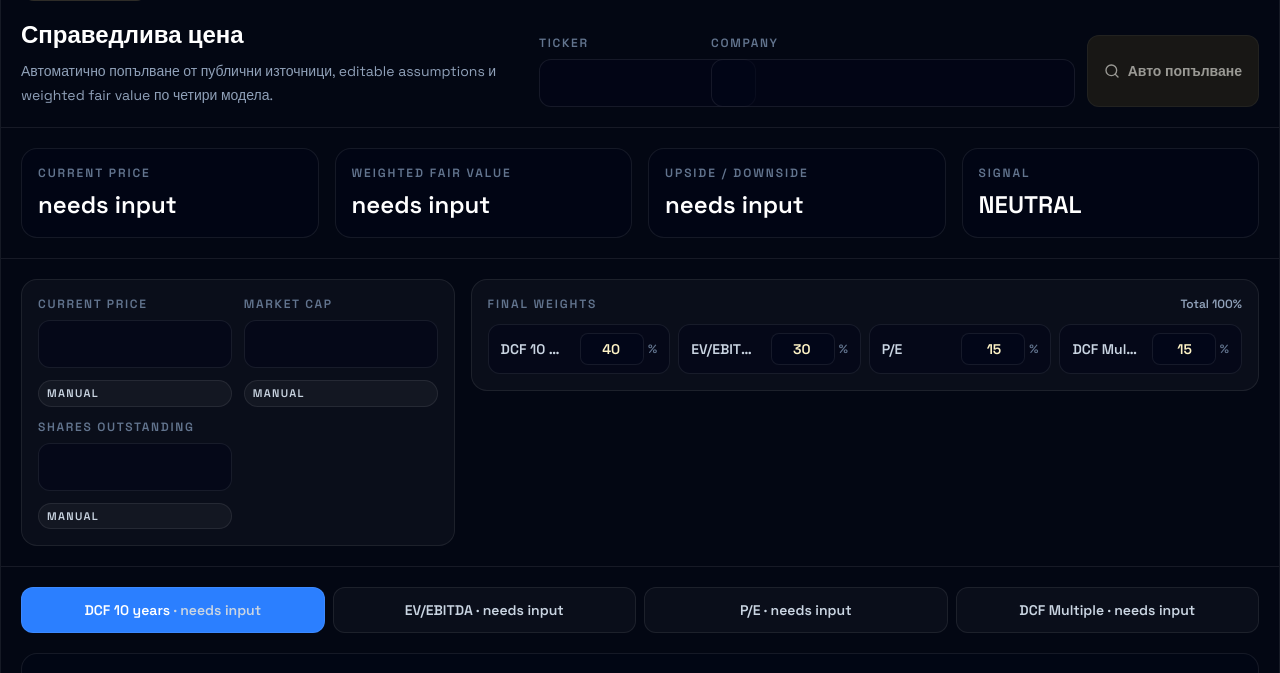
StockValuationPanel › formats noisy scenario input decimals in P/E and DCF Multiple
Type "GOOG" into the field labelled "Ticker".
click(648, 83); type("GOOG")  # box [539,59,756,107]
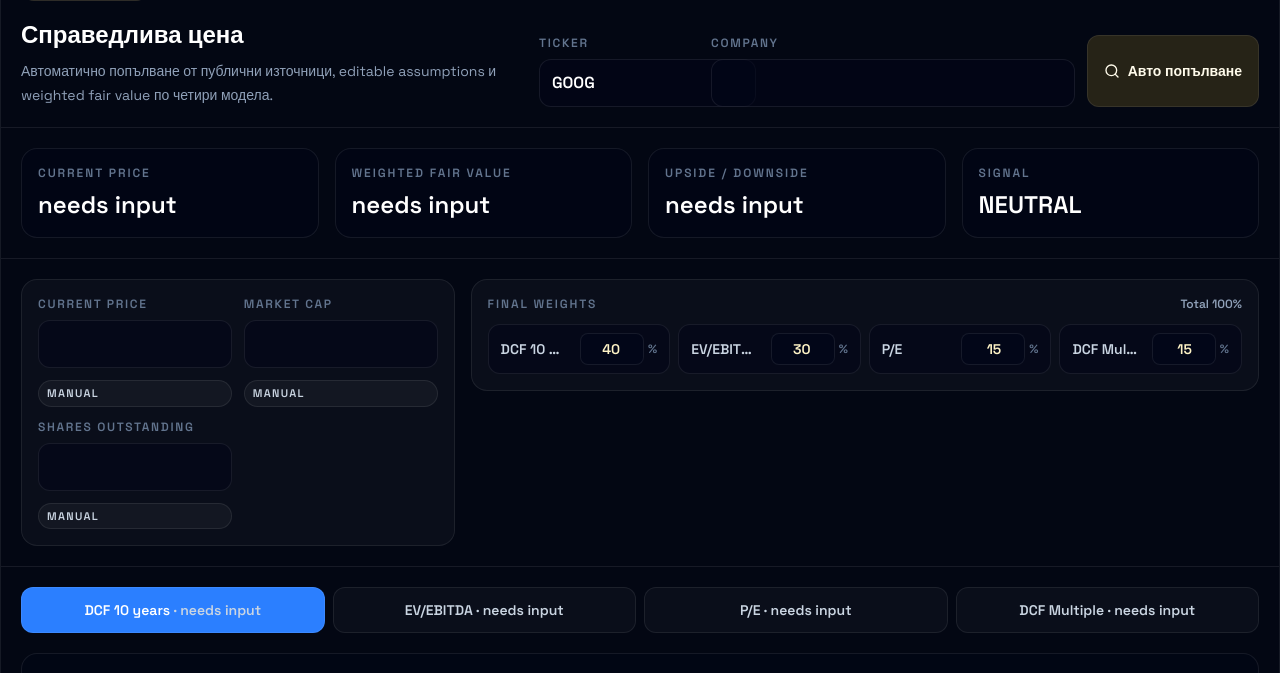
Click the button "Авто попълване".
click(1173, 71)  # box [1087,35,1259,107]
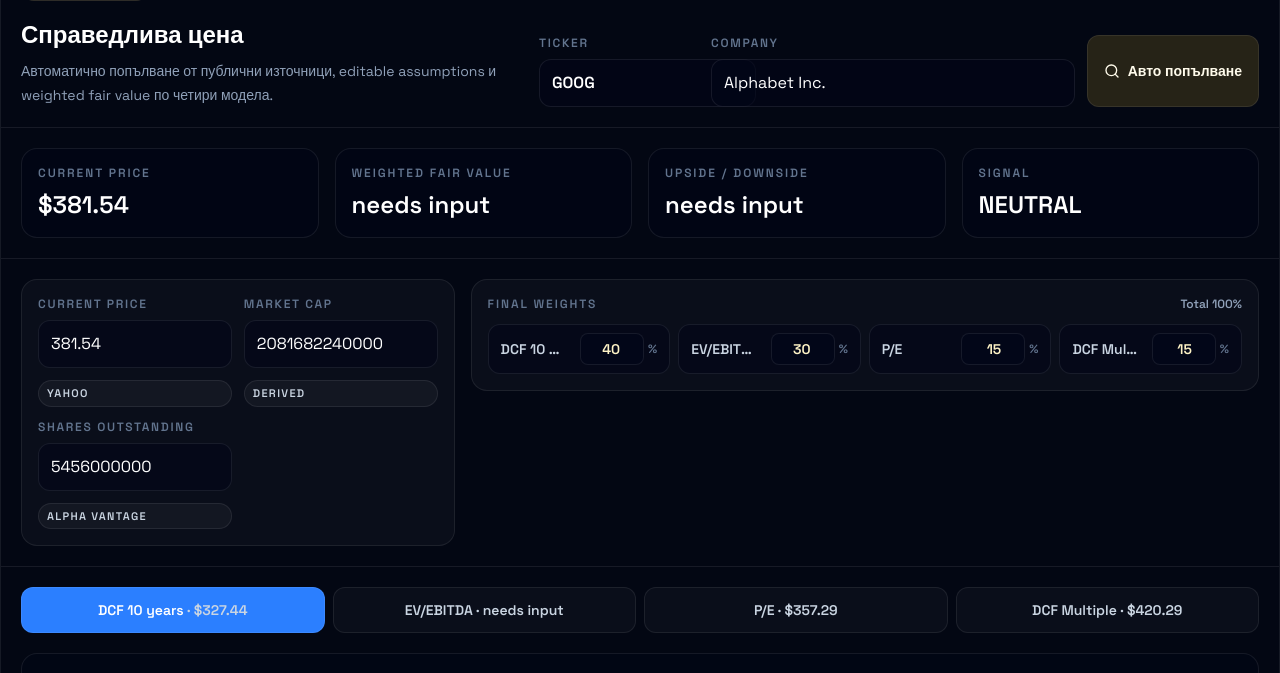
Click the button "P/E · $357.29".
click(796, 610)  # box [644,587,948,633]
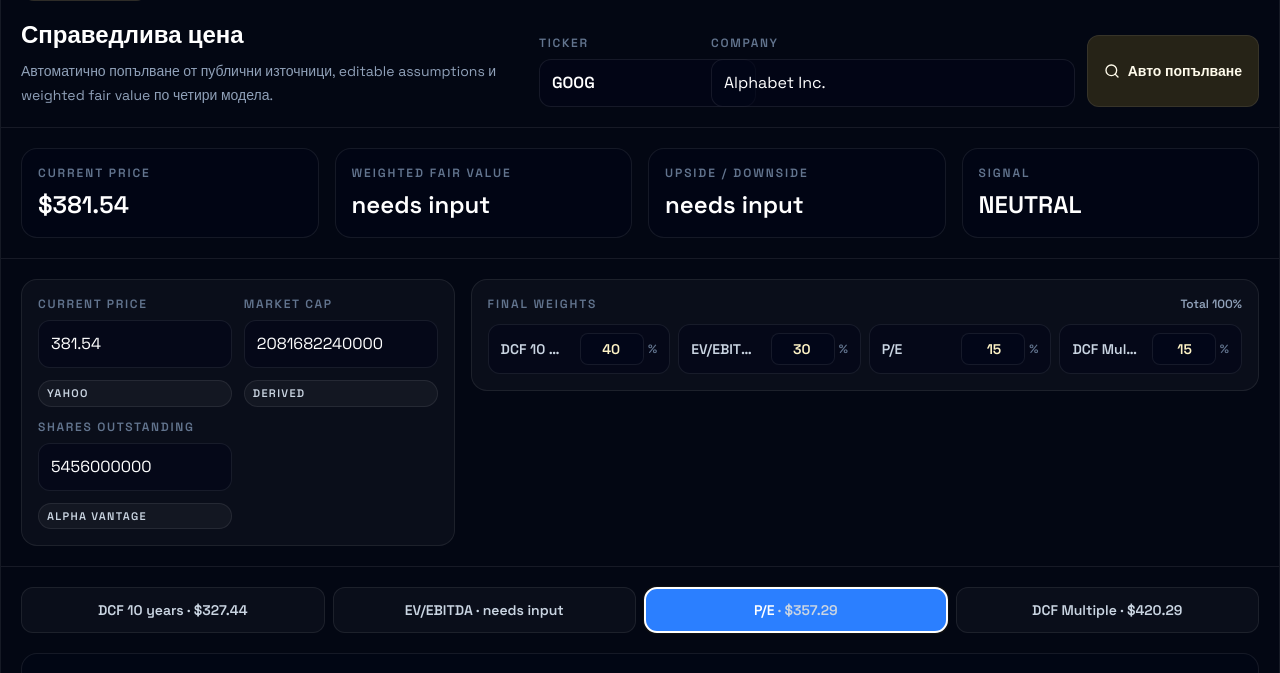
Click the button "DCF Multiple · $420.29".
click(1107, 610)  # box [956,587,1259,633]
(page scrolled)
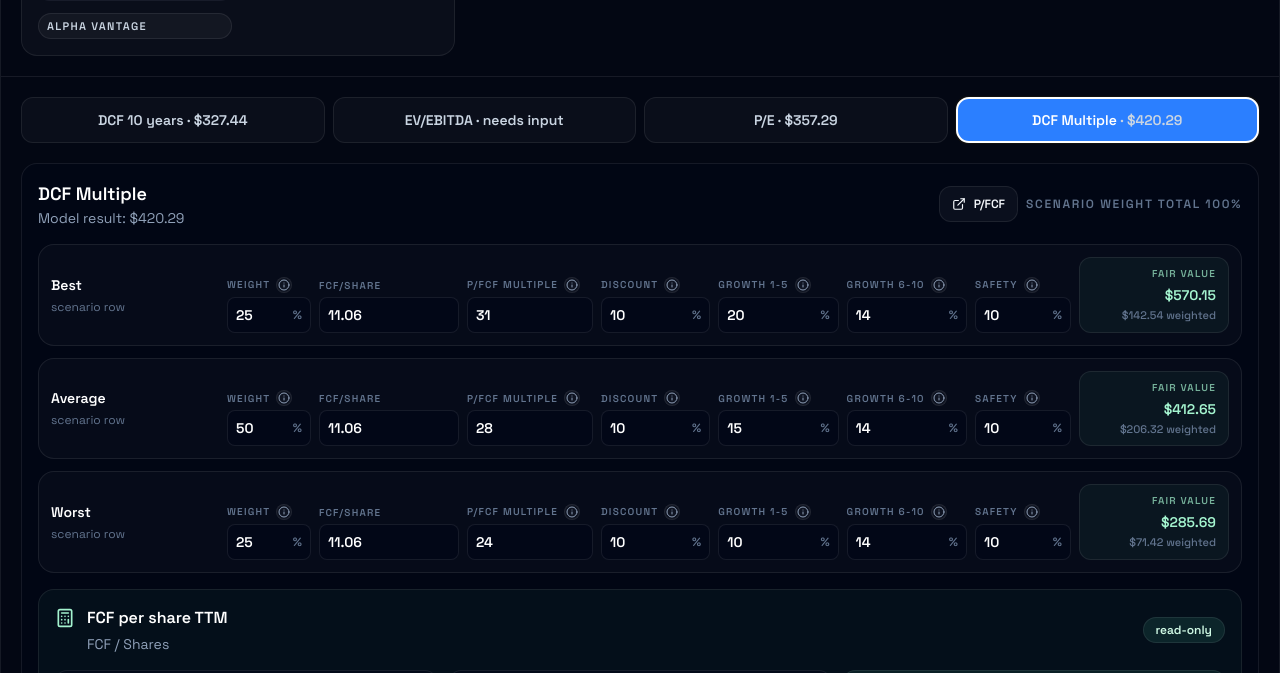
Check: the number field named "Growth 6-10" in the row of "$142.54" holds "14", box [856,298,945,332]
